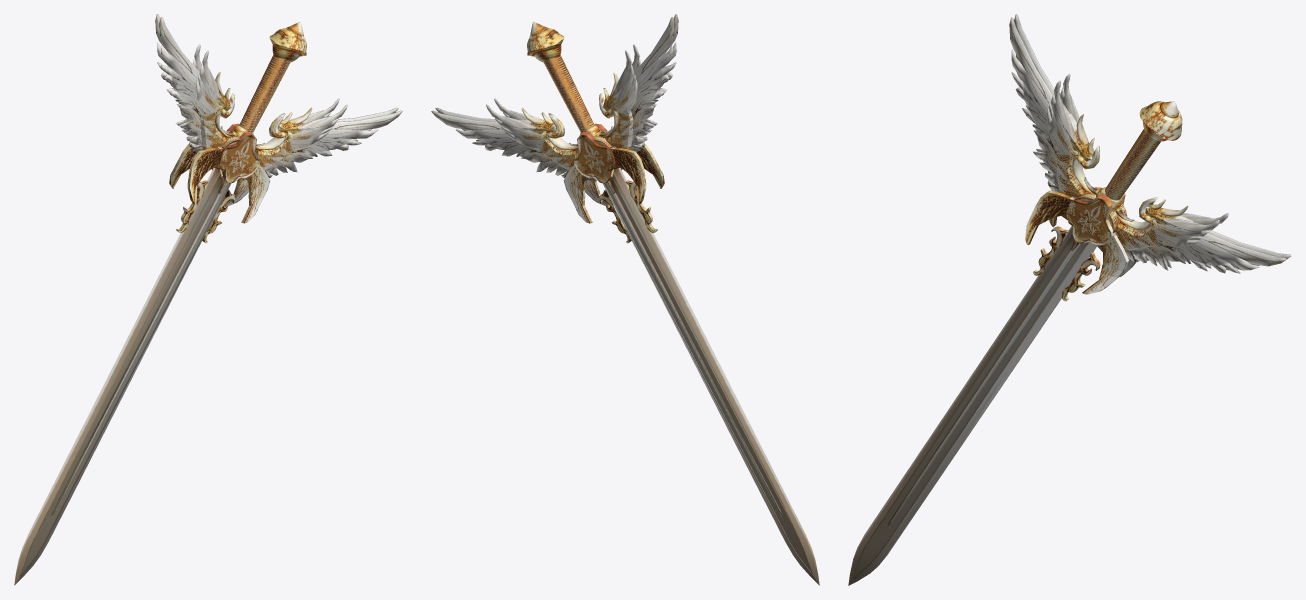
File: Альянс ангелов (1).gltf
3 views of the same model, side by side, from view 1: azimuth 30°, elevation 25°; view 2: azimuth 150°, elevation 25°; view 3: azimuth 330°, elevation 25° (orthographic). The views are drawn at different scales.
Parts seen in each view (by area): view 1: Cube.005; view 2: Cube.005; view 3: Cube.005.
Part boxes in pixels (x1=…): Cube.005: x1=14, y1=14, x2=402, y2=585; Cube.005: x1=431, y1=14, x2=819, y2=585; Cube.005: x1=848, y1=14, x2=1291, y2=585.
Size of the model in its own units: 1.36 by 1.79 by 0.1497.
1 material, 1 textured.
